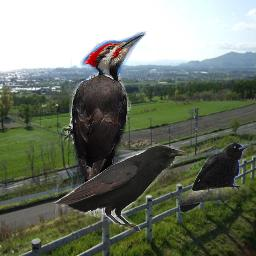Crow: (54, 144, 187, 232), (179, 143, 250, 213)
Woodpecker: (54, 31, 151, 217)
